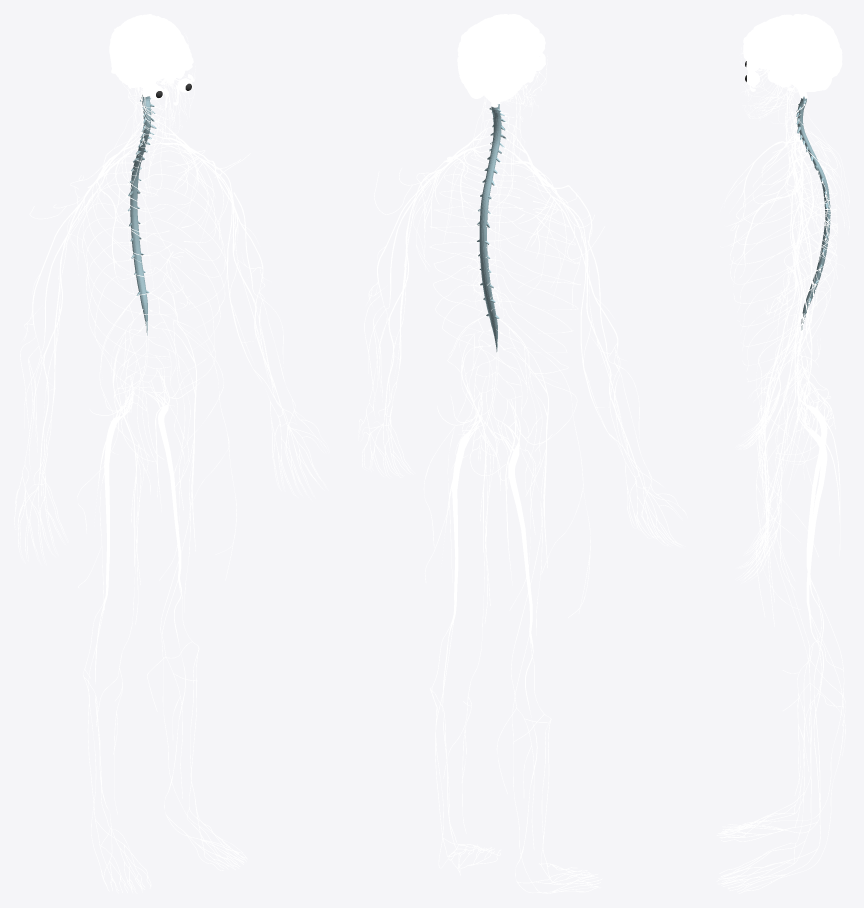
The model's file is nervous.glb.
The picture shows the model from 3 angles, left to right: view 1: azimuth 30°, elevation 25°; view 2: azimuth 150°, elevation 25°; view 3: azimuth 270°, elevation 25°; orthographic projection. The views are drawn at different scales.
Visible parts, largest first — view 1: Spinal dura.001, Intercostal nerves.r.001, Intercostal nerves.l.001, Sciatic nerve.r.001, Sciatic nerve.l.001, Middle frontal gyrus.r.001; view 2: Spinal dura.001, Intercostal nerves.l.001, Intercostal nerves.r.001, Sciatic nerve.r.001, Sciatic nerve.l.001; view 3: Intercostal nerves.l.001, Spinal dura.001, Intercostal nerves.r.001, Sciatic nerve.l.001, Sciatic nerve.r.001, Middle frontal gyrus.l.001, Saphenous nerve.l.001, Median nerve.l.001, Middle temporal gyrus.l.001, Precentral gyrus.l.001, Vagus nerve (X).r.001, Saphenous nerve.r.001 (+15 smaller).
Part boxes in pixels (left/top/right/bottom): Spinal dura.001: left=128, top=95, right=156, bottom=335; Intercostal nerves.r.001: left=82, top=148, right=173, bottom=392; Intercostal nerves.l.001: left=142, top=143, right=227, bottom=389; Sciatic nerve.r.001: left=104, top=376, right=132, bottom=595; Sciatic nerve.l.001: left=151, top=369, right=181, bottom=577; Middle frontal gyrus.r.001: left=133, top=30, right=166, bottom=74; Spinal dura.001: left=477, top=104, right=506, bottom=351; Intercostal nerves.l.001: left=429, top=154, right=524, bottom=369; Intercostal nerves.r.001: left=491, top=163, right=580, bottom=373; Sciatic nerve.r.001: left=495, top=400, right=532, bottom=632; Sciatic nerve.l.001: left=452, top=397, right=481, bottom=613; Intercostal nerves.l.001: left=730, top=153, right=837, bottom=381; Spinal dura.001: left=796, top=96, right=830, bottom=330; Intercostal nerves.r.001: left=730, top=140, right=837, bottom=371; Sciatic nerve.l.001: left=797, top=384, right=827, bottom=612; Sciatic nerve.r.001: left=797, top=370, right=827, bottom=576; Middle frontal gyrus.l.001: left=744, top=29, right=794, bottom=62; Saphenous nerve.l.001: left=762, top=452, right=845, bottom=827; Median nerve.l.001: left=769, top=198, right=802, bottom=508; Middle temporal gyrus.l.001: left=773, top=59, right=827, bottom=82; Precentral gyrus.l.001: left=776, top=21, right=804, bottom=62; Vagus nerve (X).r.001: left=764, top=85, right=812, bottom=320; Saphenous nerve.r.001: left=762, top=423, right=845, bottom=795.
Size of the model in its own units: 0.6674 by 1.69 by 0.2424.
